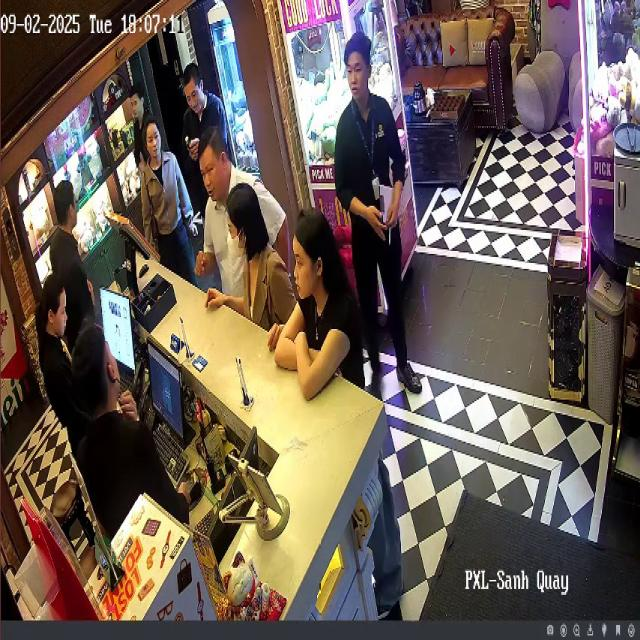khach: (284, 206, 366, 428), (192, 137, 281, 336), (214, 190, 297, 354), (143, 124, 202, 272), (178, 72, 238, 178)
nhan vien: (332, 32, 431, 419), (70, 317, 178, 567), (50, 164, 105, 319), (32, 274, 78, 432), (126, 80, 146, 159)
